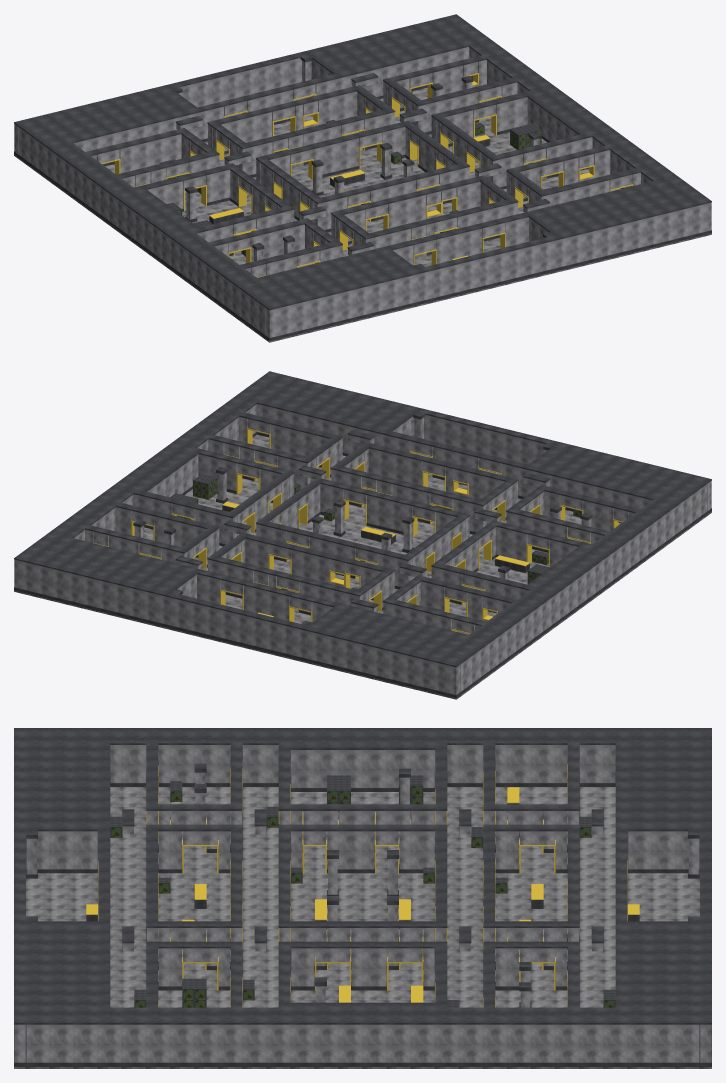
The model's file is map_bunker.glb.
3 renders of one model, top to bottom at view 1: azimuth 30°, elevation 25°; view 2: azimuth 150°, elevation 25°; view 3: azimuth 270°, elevation 25°, orthographic. The views are drawn at different scales.
Parts seen in each view (by area): view 1: map; view 2: map; view 3: map.
Part boxes in pixels (left/top/right/bottom): map: left=14, top=14, right=711, bottom=342; map: left=14, top=371, right=711, bottom=699; map: left=14, top=728, right=711, bottom=1068.
Size of the model in its own units: 58 by 4.2 by 58.
Materials: 5 (4 with a texture image).
